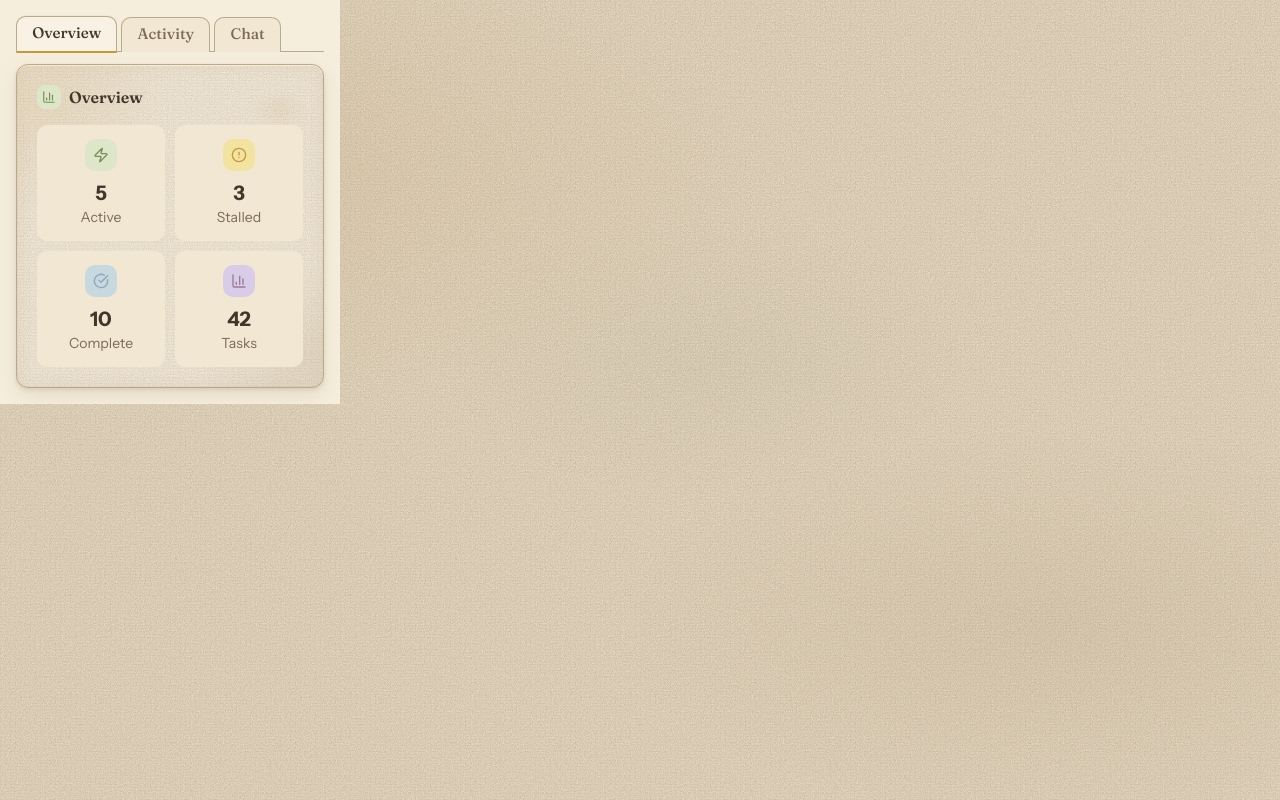
RightPanel › tab navigation › switches to Chat pane and shows the agent council + compose box
The image size is (1280, 800).
Step 1. Click the tab "Chat" → (248, 34), box [214,17,281,52]
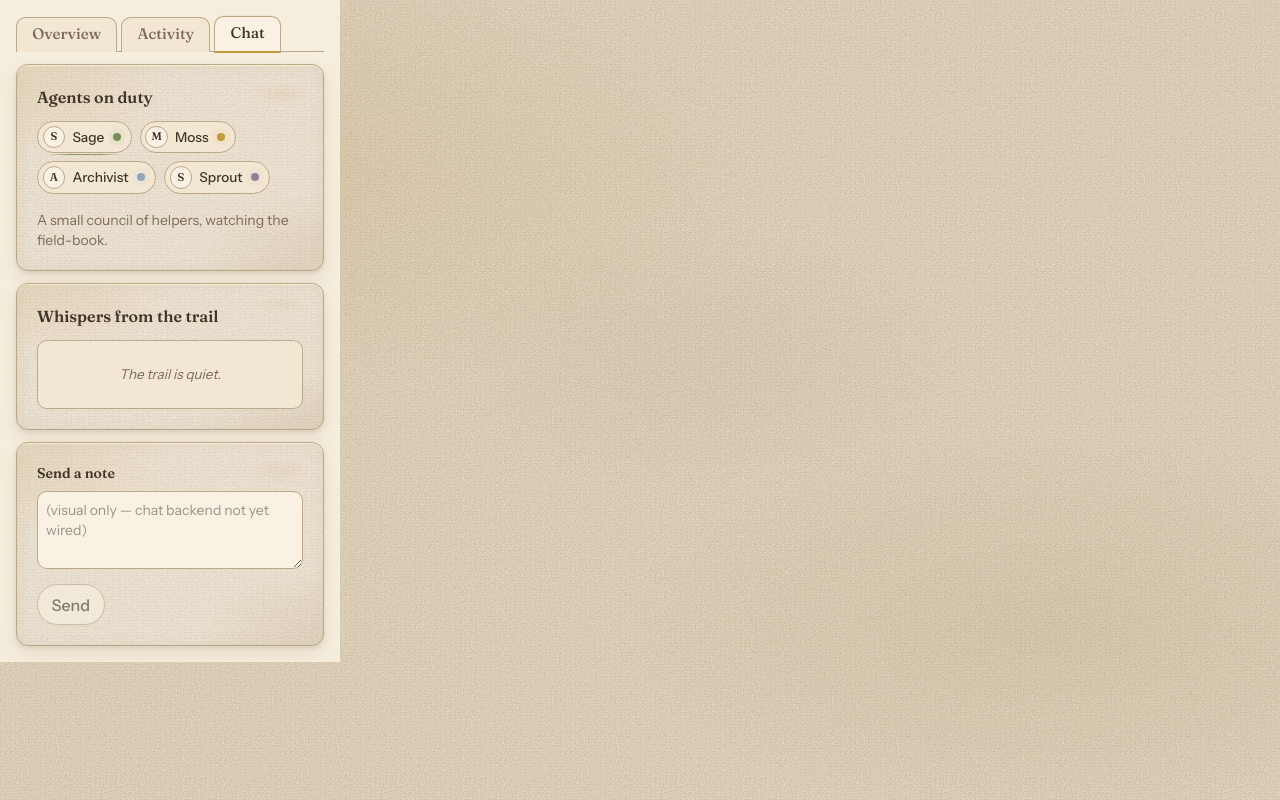
Check: the text "Agents on duty" is shown, box [37,87,153,107]
Check: the text "Sage" is shown, box [72,129,104,145]
Check: the text "Moss" is shown, box [175,129,209,145]
